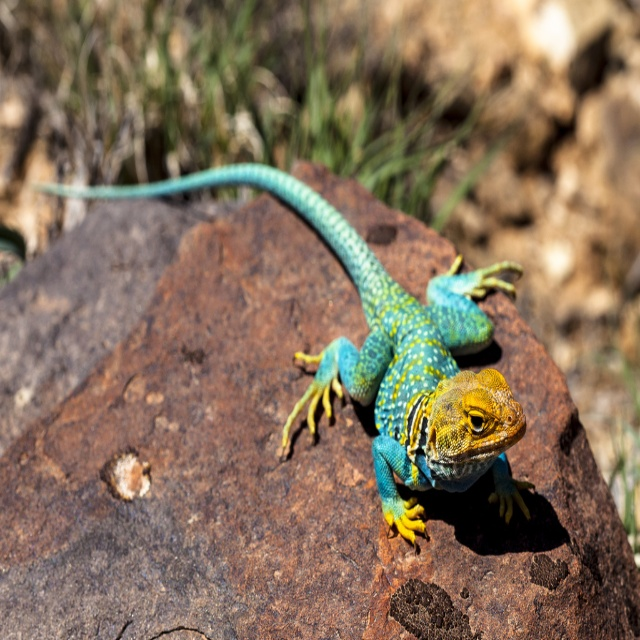Lizard: (36, 155, 529, 546)
